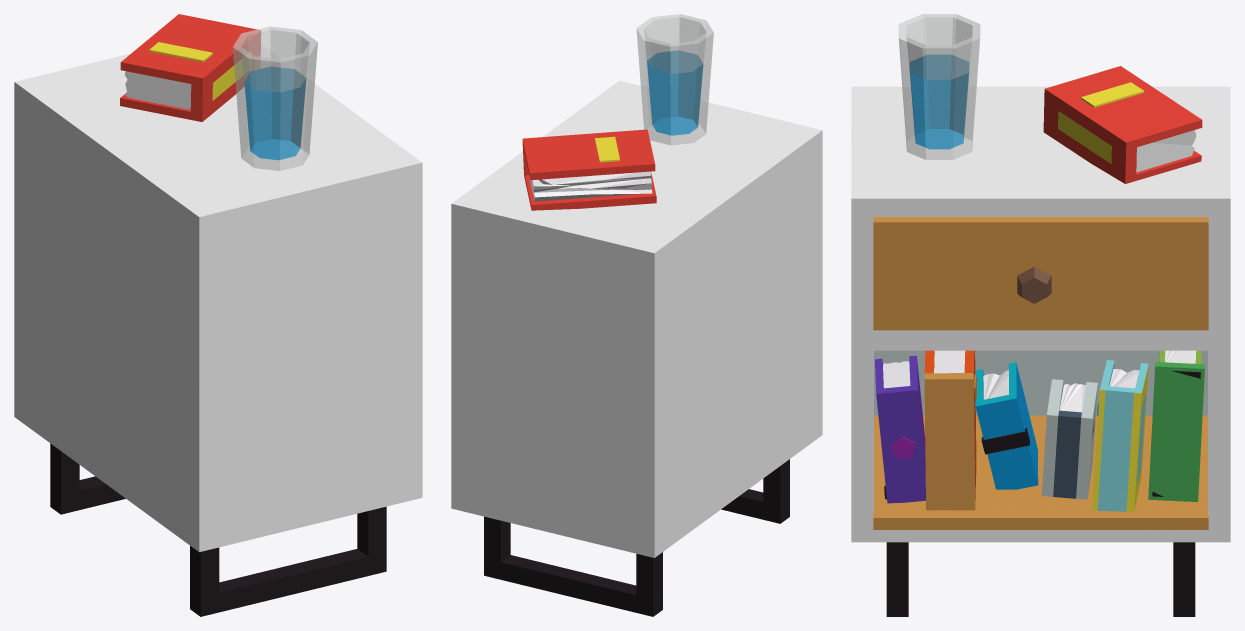
File: nightstand-transformed.glb
3 renders of one model, left to right at view 1: azimuth 30°, elevation 25°; view 2: azimuth 150°, elevation 25°; view 3: azimuth 270°, elevation 25°, orthographic. The views are drawn at different scales.
Visible parts, largest first — view 1: group1888383277, group963747135; view 2: group1888383277, group963747135; view 3: group1888383277, group963747135.
Boxes of the visible parts, left/top/right/bottom form: group1888383277: left=14, top=14, right=422, bottom=616; group963747135: left=233, top=26, right=317, bottom=170; group1888383277: left=451, top=50, right=822, bottom=616; group963747135: left=636, top=14, right=713, bottom=145; group1888383277: left=851, top=55, right=1230, bottom=616; group963747135: left=898, top=14, right=980, bottom=159.
Size of the model in its own units: 0.6881 by 1.36 by 0.86.
Materials: 2 (2 with a texture image).
